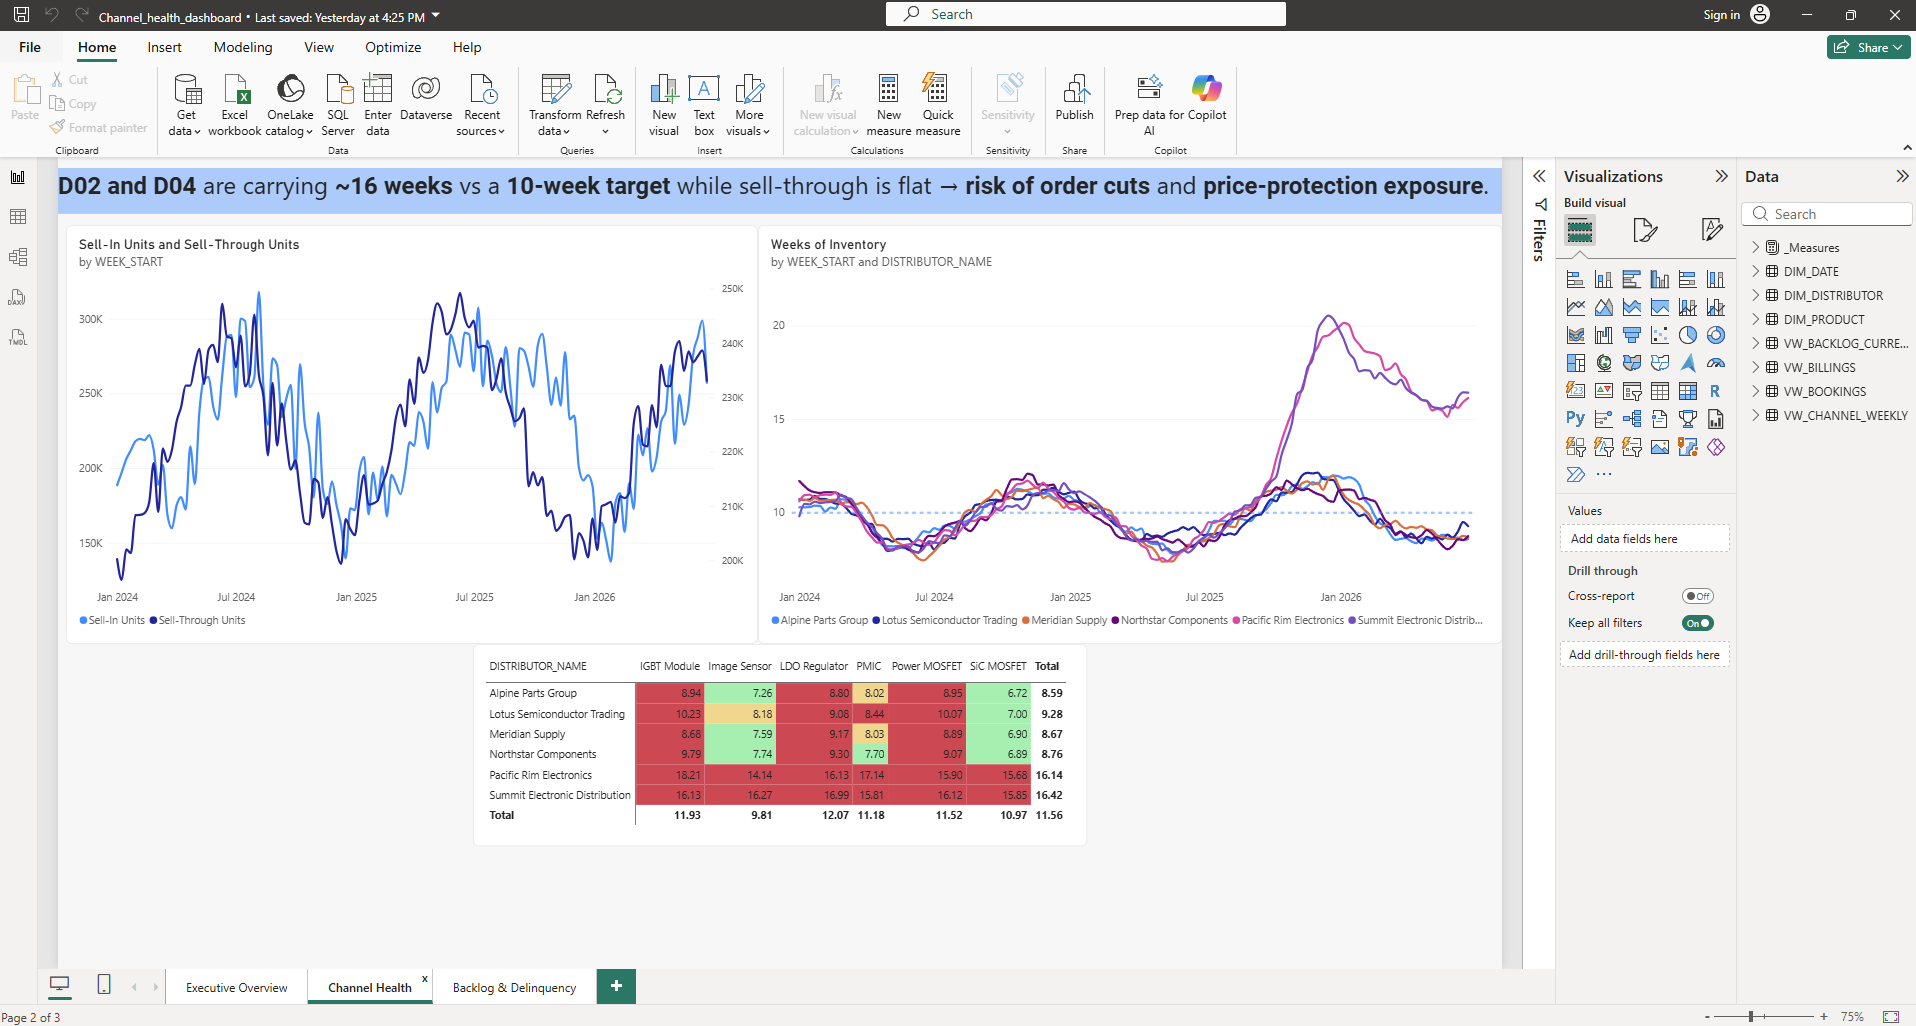

This screenshot's page, from the dashboard's own definition file:
{"tool":"powerbi","page":{"name":"Channel Health","canvas":[1920,1080],"ordinal":1},"visuals":[{"type":"lineChart","fields":{"Category":["DIM_DATE.WEEK_START"],"Y":["_Measures.Sell-In Units"],"Y2":["_Measures.Sell-Through Units"]},"box":[10.6,90.4,920.4,557.3],"z":0},{"type":"lineChart","fields":{"Category":["DIM_DATE.WEEK_START"],"Series":["DIM_DISTRIBUTOR.DISTRIBUTOR_NAME"],"Y":["_Measures.Weeks of Inventory"]},"box":[931,90.4,989.6,557.3],"z":1000},{"type":"pivotTable","fields":{"Columns":["DIM_PRODUCT.PRODUCT_FAMILY"],"Rows":["DIM_DISTRIBUTOR.DISTRIBUTOR_NAME"],"Values":["_Measures.Weeks of Inventory"]},"box":[552,647.7,816.7,268.7],"z":2000},{"type":"textbox","box":[0,14.6,1920.6,61.2],"z":3000}]}

Visuals, with their boxes on the page's 1920x1080 design canvas (x1, y1, x2, y2). These are canvas units, not pixel positions in the 1916x1026 screenshot, which may show the page scaled, cropped or inside an application window:
lineChart - DIM_DATE.WEEK_START x _Measures.Sell-In Units: region(11, 90, 931, 648)
lineChart - DIM_DATE.WEEK_START x DIM_DISTRIBUTOR.DISTRIBUTOR_NAME: region(931, 90, 1921, 648)
pivotTable - DIM_PRODUCT.PRODUCT_FAMILY x DIM_DISTRIBUTOR.DISTRIBUTOR_NAME: region(552, 648, 1369, 916)
textbox: region(0, 15, 1921, 76)
